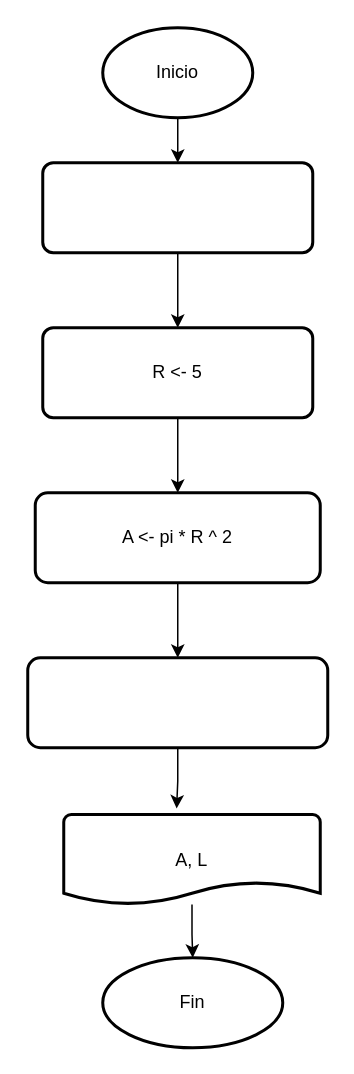
The diagram is 354 pixels wide and 1074 high, and some of its shapes have lost their labels. Each missing label, with the box of its shape:
L <- 2 * pi * R: (26, 656, 328, 748)
Pi<- 3,1416: (40, 160, 314, 254)
